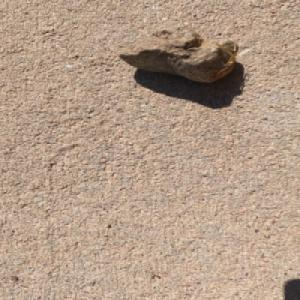Rock: (114, 20, 240, 83)
